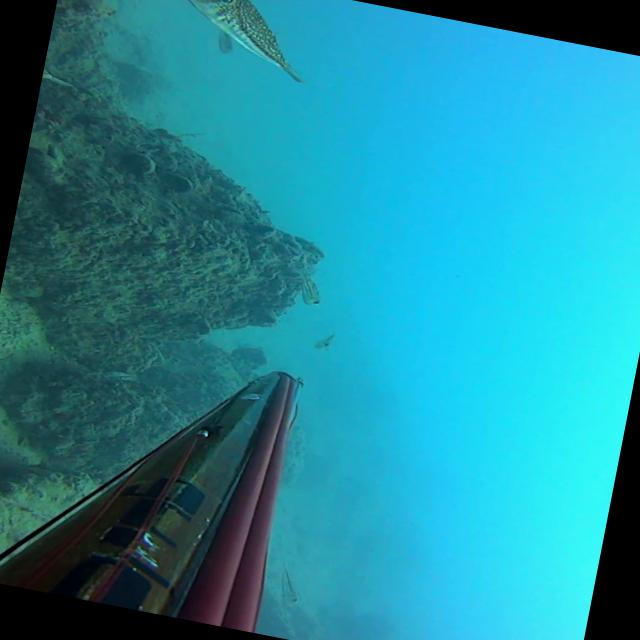Balon Baligi: (156, 0, 324, 85), (286, 264, 325, 306), (273, 560, 305, 608), (312, 330, 336, 352), (216, 30, 235, 55)
